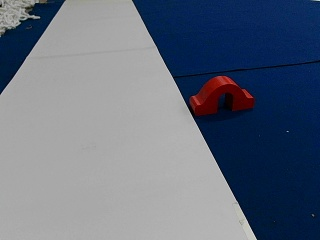bridge: (191, 76, 252, 112)
